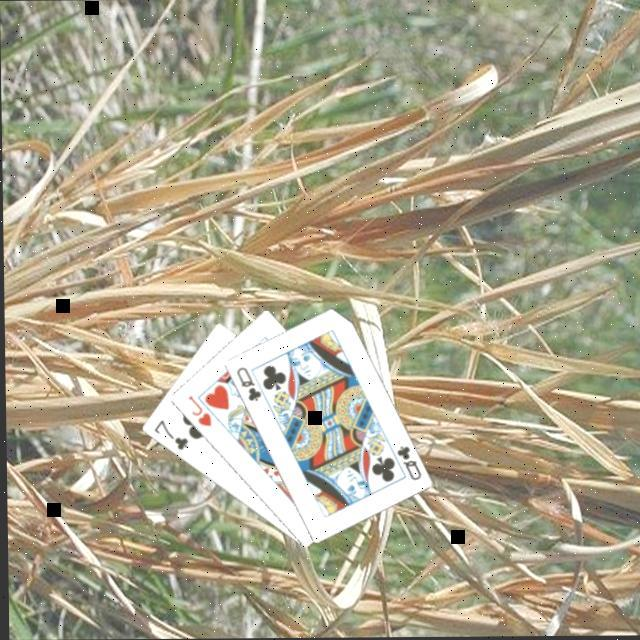7C: (151, 415, 191, 452)
JH: (186, 390, 214, 428)
QC: (234, 362, 264, 404), (394, 440, 424, 482)
